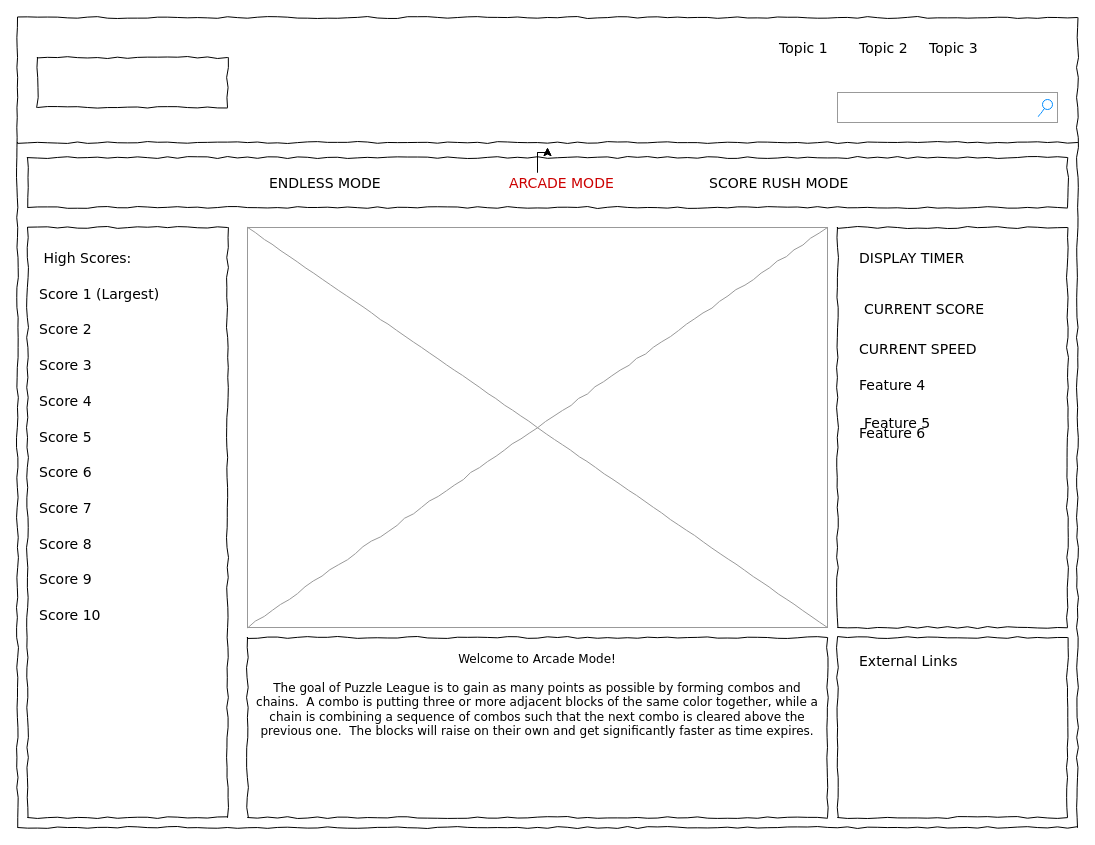
Some shapes in this 1095 by 845 pixel diagram are drawn without their labels. Here are the shapes that lost their labels. From the top down, the centre of each, then its label:
At point (132, 82): "PUZZLE LEAGUE CLONE".
At point (947, 107): "Search".
